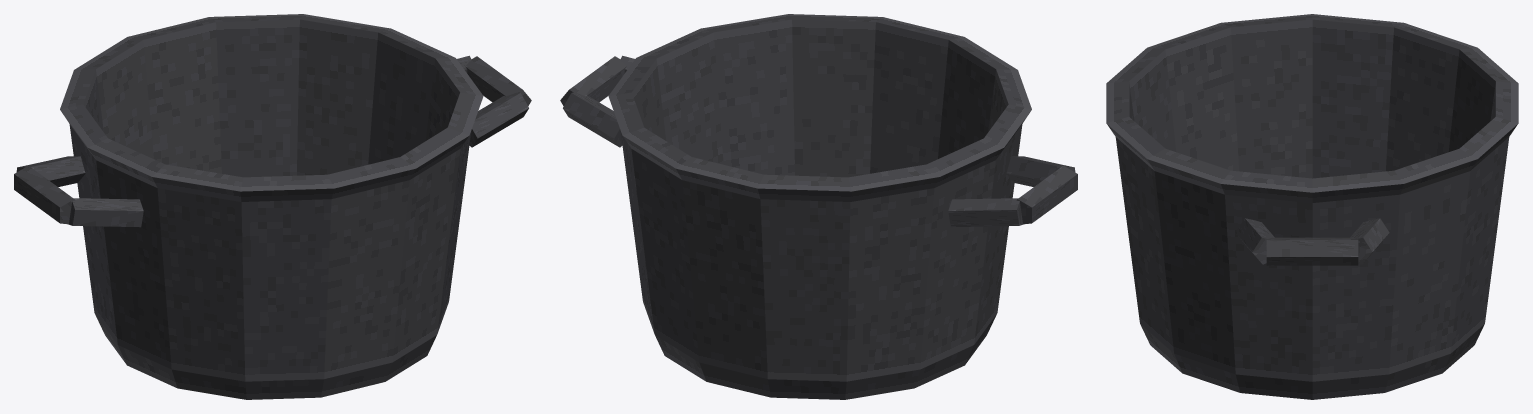
Rendered from iron_pot.glb.
3 views of the same model, side by side, from view 1: azimuth 30°, elevation 25°; view 2: azimuth 150°, elevation 25°; view 3: azimuth 270°, elevation 25° (orthographic).
Parts seen in each view (by area): view 1: block_open vessel, block_side handle 2 (×2), block_side handle 1 (×2), block_side handle 0; view 2: block_open vessel, block_side handle 0 (×2), block_side handle 1 (×2), block_side handle 2; view 3: block_open vessel, block_side handle 1, block_side handle 0, block_side handle 2.
Part boxes in pixels (left/top/right/bottom): block_open vessel: left=60, top=14, right=483, bottom=399; block_side handle 2 (×2): left=68, top=92, right=528, bottom=227; block_side handle 1 (×2): left=14, top=56, right=531, bottom=224; block_side handle 0: left=16, top=156, right=85, bottom=186; block_open vessel: left=608, top=14, right=1031, bottom=399; block_side handle 0 (×2): left=563, top=92, right=1023, bottom=227; block_side handle 1 (×2): left=560, top=56, right=1077, bottom=224; block_side handle 2: left=1006, top=156, right=1075, bottom=186; block_open vessel: left=1106, top=14, right=1518, bottom=399; block_side handle 1: left=1266, top=237, right=1358, bottom=265; block_side handle 0: left=1350, top=218, right=1389, bottom=264; block_side handle 2: left=1235, top=218, right=1274, bottom=264.
Size of the model in its own units: 0.25 by 0.1173 by 0.1901.
Materials: 2 (2 with a texture image).
